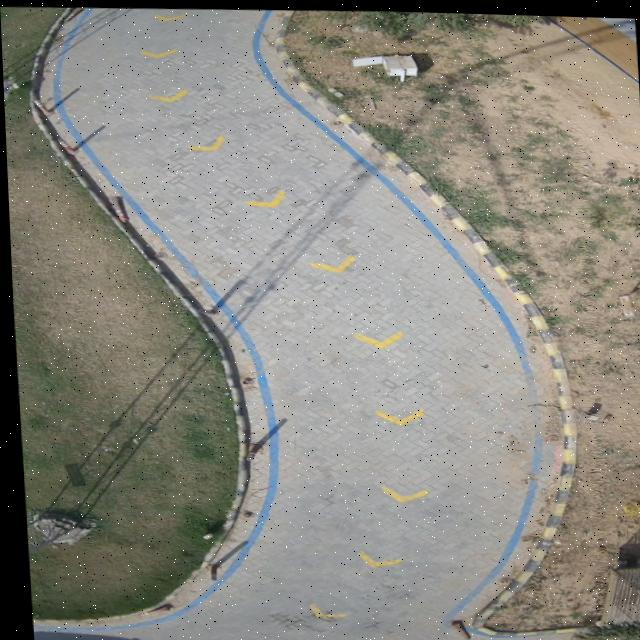No Car: (0, 6, 640, 640)
